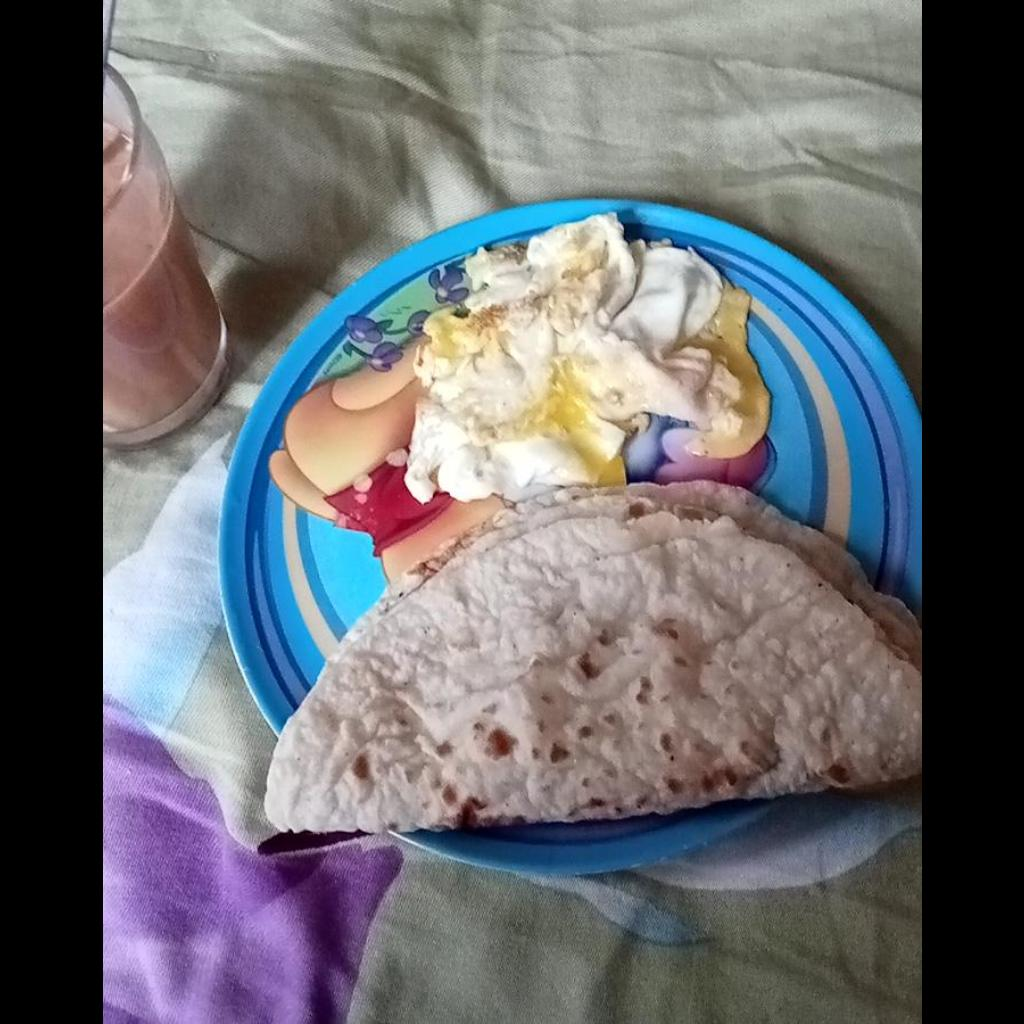egg-poached: (401, 210, 771, 504)
ruti: (264, 479, 920, 836)
